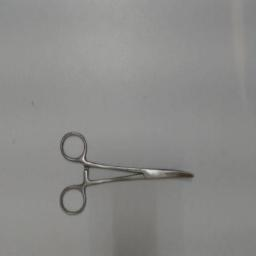Crile Artery Forceps: (58, 126, 198, 216)
